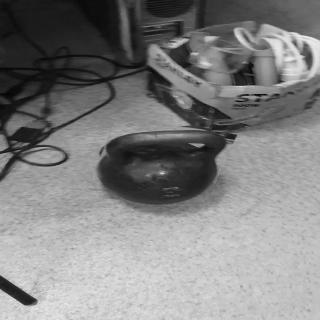kettlebell: (91, 122, 231, 209)
